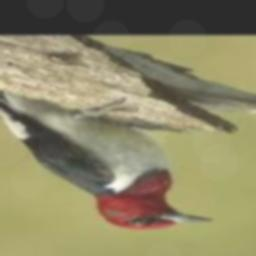Woodpecker: (0, 86, 214, 230)
